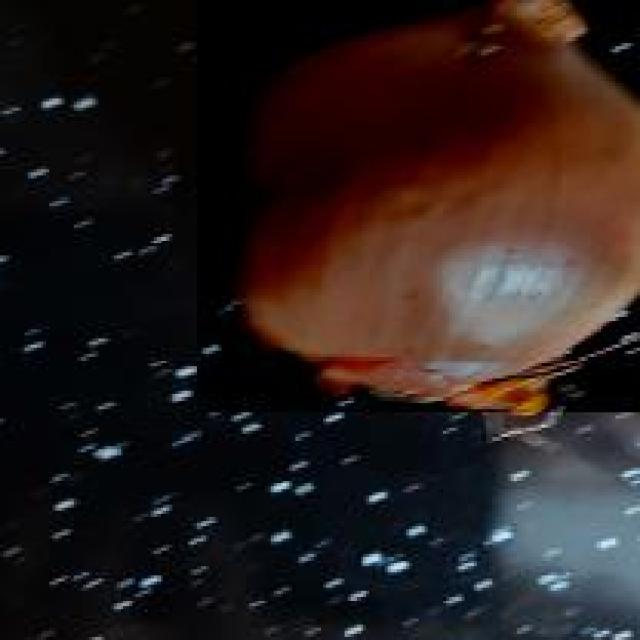onion: (197, 0, 640, 409)
